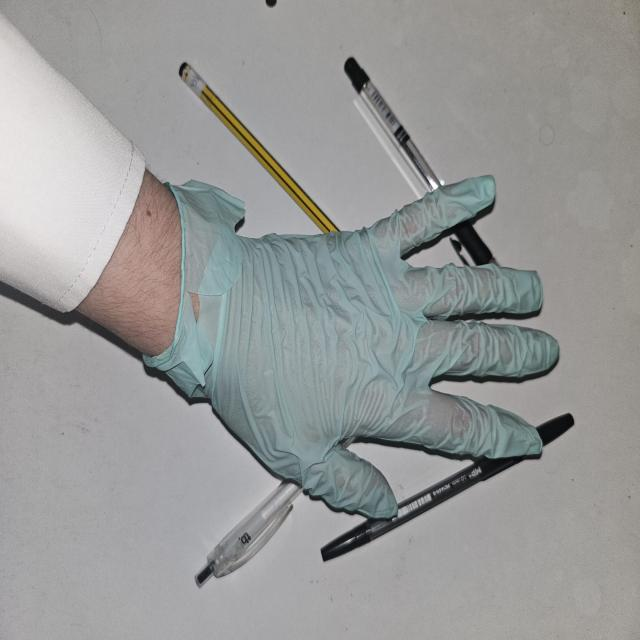gloves_damaged: (150, 172, 560, 520)
